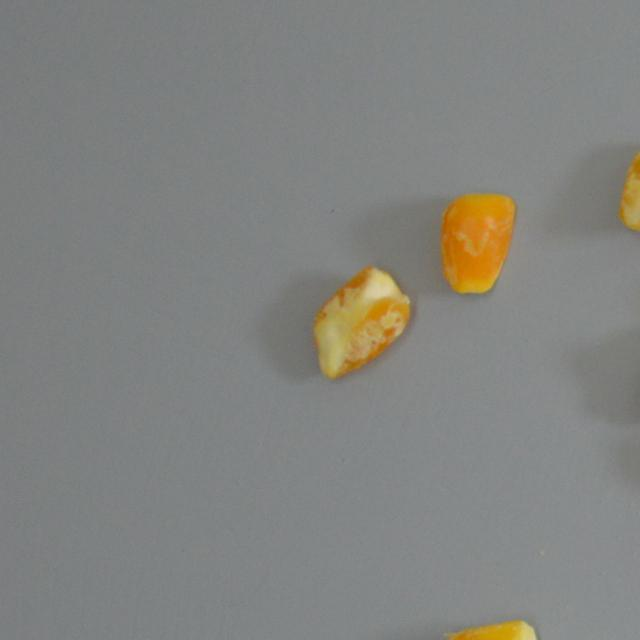pelicula: (310, 264, 413, 384), (441, 190, 514, 294), (440, 618, 538, 640), (620, 140, 640, 233)
